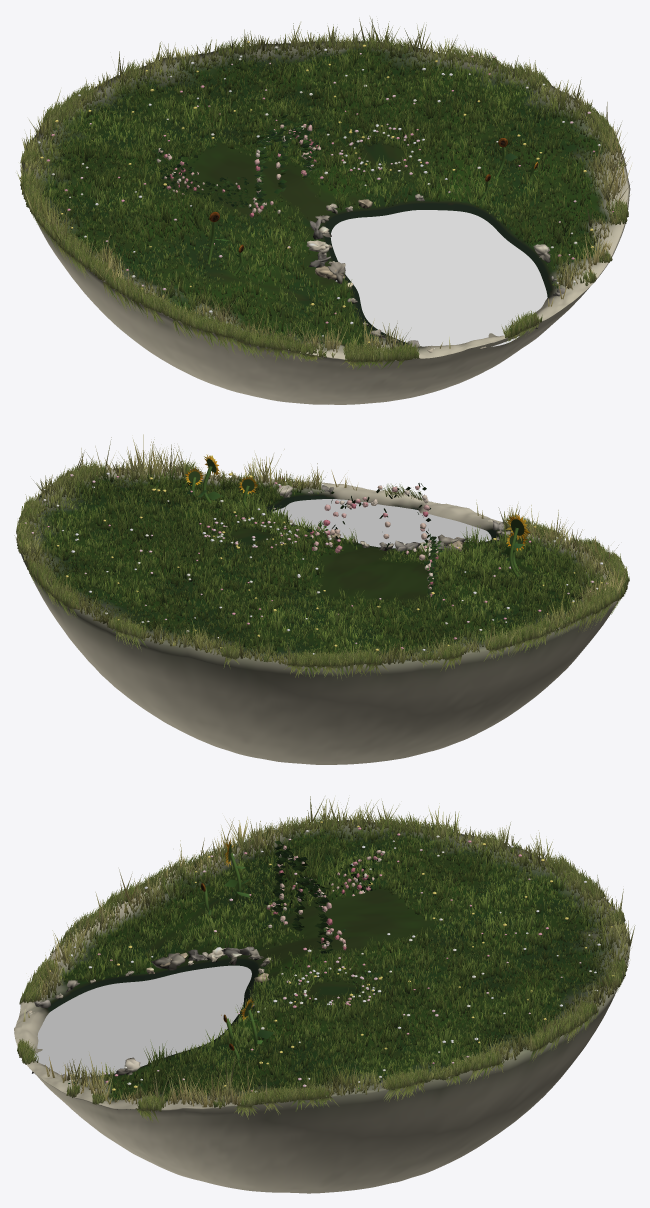
Rendered from village-summer.glb.
3 views of the same model, one above another, from view 1: azimuth 30°, elevation 25°; view 2: azimuth 150°, elevation 25°; view 3: azimuth 270°, elevation 25° (orthographic). The views are drawn at different scales.
Visible parts, largest first — view 1: ground, grass, water, decor; view 2: ground, grass, decor, water; view 3: ground, grass, water, decor.
Boxes of the visible parts, x1,y1,x2,y2 form: ground: (21, 41, 630, 404); grass: (17, 17, 631, 369); water: (330, 210, 547, 346); decor: (37, 41, 613, 352); ground: (21, 467, 617, 764); grass: (14, 434, 629, 678); decor: (24, 454, 609, 656); water: (272, 499, 491, 548); ground: (14, 820, 630, 1193); grass: (17, 796, 635, 1122); water: (34, 965, 251, 1078); decor: (26, 821, 614, 1096).
Size of the model in its own units: 110 by 42.41 by 101.
